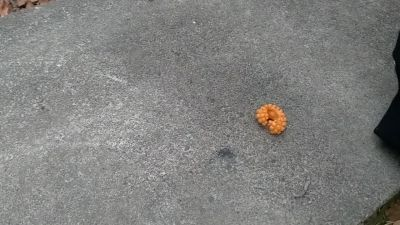eggs: (256, 103, 287, 136)
